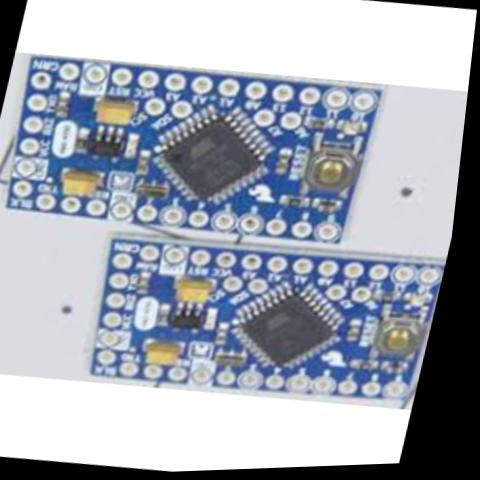Arduino-Pro-Mini: (0, 41, 397, 271)
